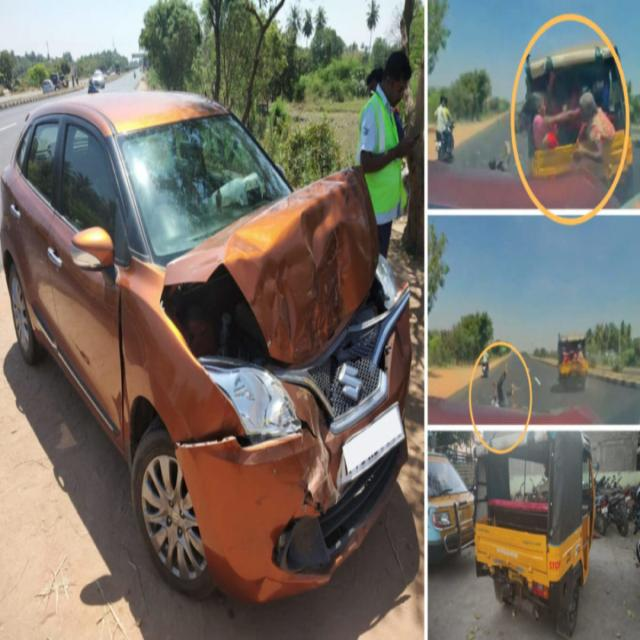accident: (0, 91, 410, 602)
autorickshaw: (475, 431, 595, 637)
truck: (428, 451, 474, 562)
